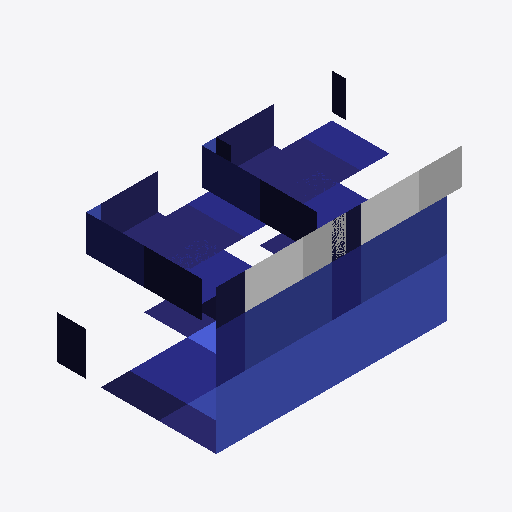
Isometric view (azimuth 45°, elevation 35.3°) of a Minecraft model made of 6 cuboids, textured from the same repository.
Parts seen in each view (by area): element 2, element 5, element 3, element 4, element 1.
Part boxes in pixels (x1,y1,x2,y2): element 2: (101, 192, 331, 453); element 5: (248, 121, 446, 386); element 3: (86, 137, 345, 328); element 4: (202, 71, 461, 261); element 1: (57, 296, 215, 378).
Bounding box in the file's own units: 8.5 × 5.25 × 5.75.